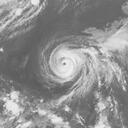cyclone: (39, 36, 94, 87)
